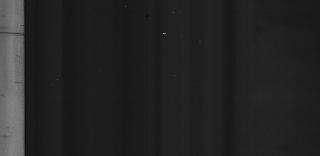scratches: (2, 27, 22, 38)
